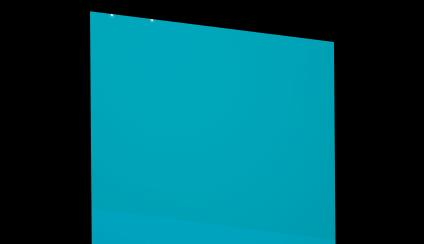boat: (106, 11, 156, 44)
drone: (115, 11, 150, 25)
